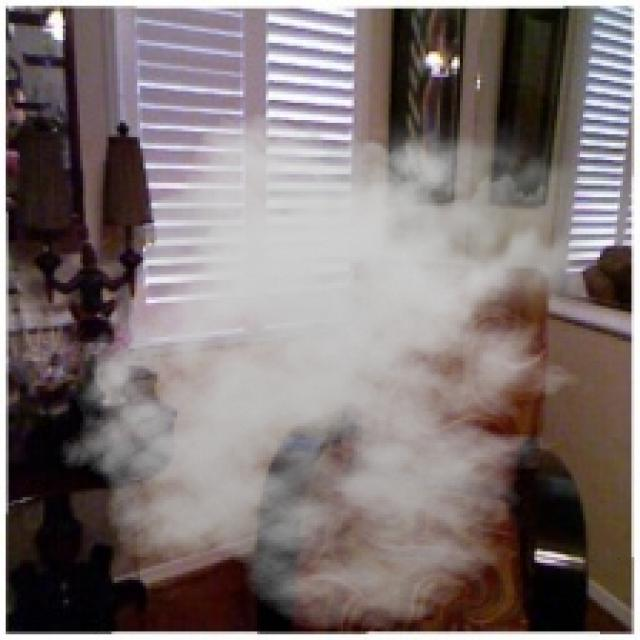smoke: (60, 97, 614, 632)
